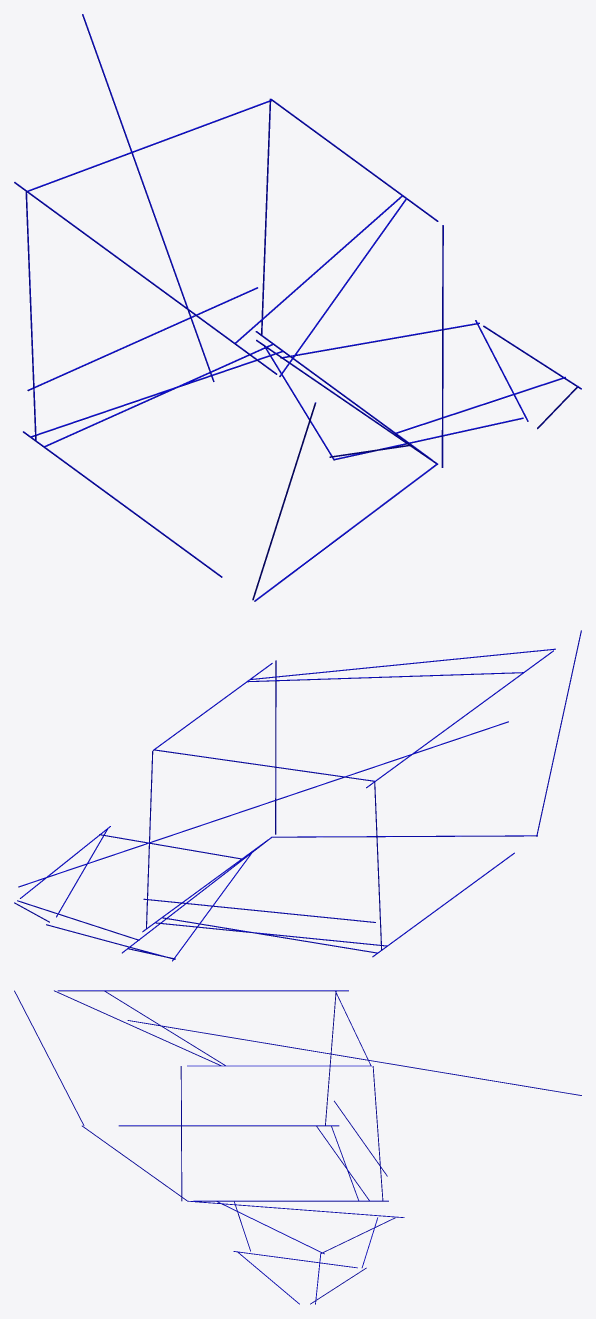
Rendered from corrected_3d_strokes.glb.
3 views of the same model, one above another, from view 1: azimuth 30°, elevation 25°; view 2: azimuth 150°, elevation 25°; view 3: azimuth 270°, elevation 25° (orthographic). The views are drawn at different scales.
Parts seen in each view (by area): view 1: world; view 2: world; view 3: world.
Boxes of the visible parts, x1,y1,x2,y2 form: world: [14, 14, 581, 601]; world: [14, 630, 581, 961]; world: [14, 990, 581, 1304].
Size of the model in its own units: 13.63 by 9.01 by 25.14.
